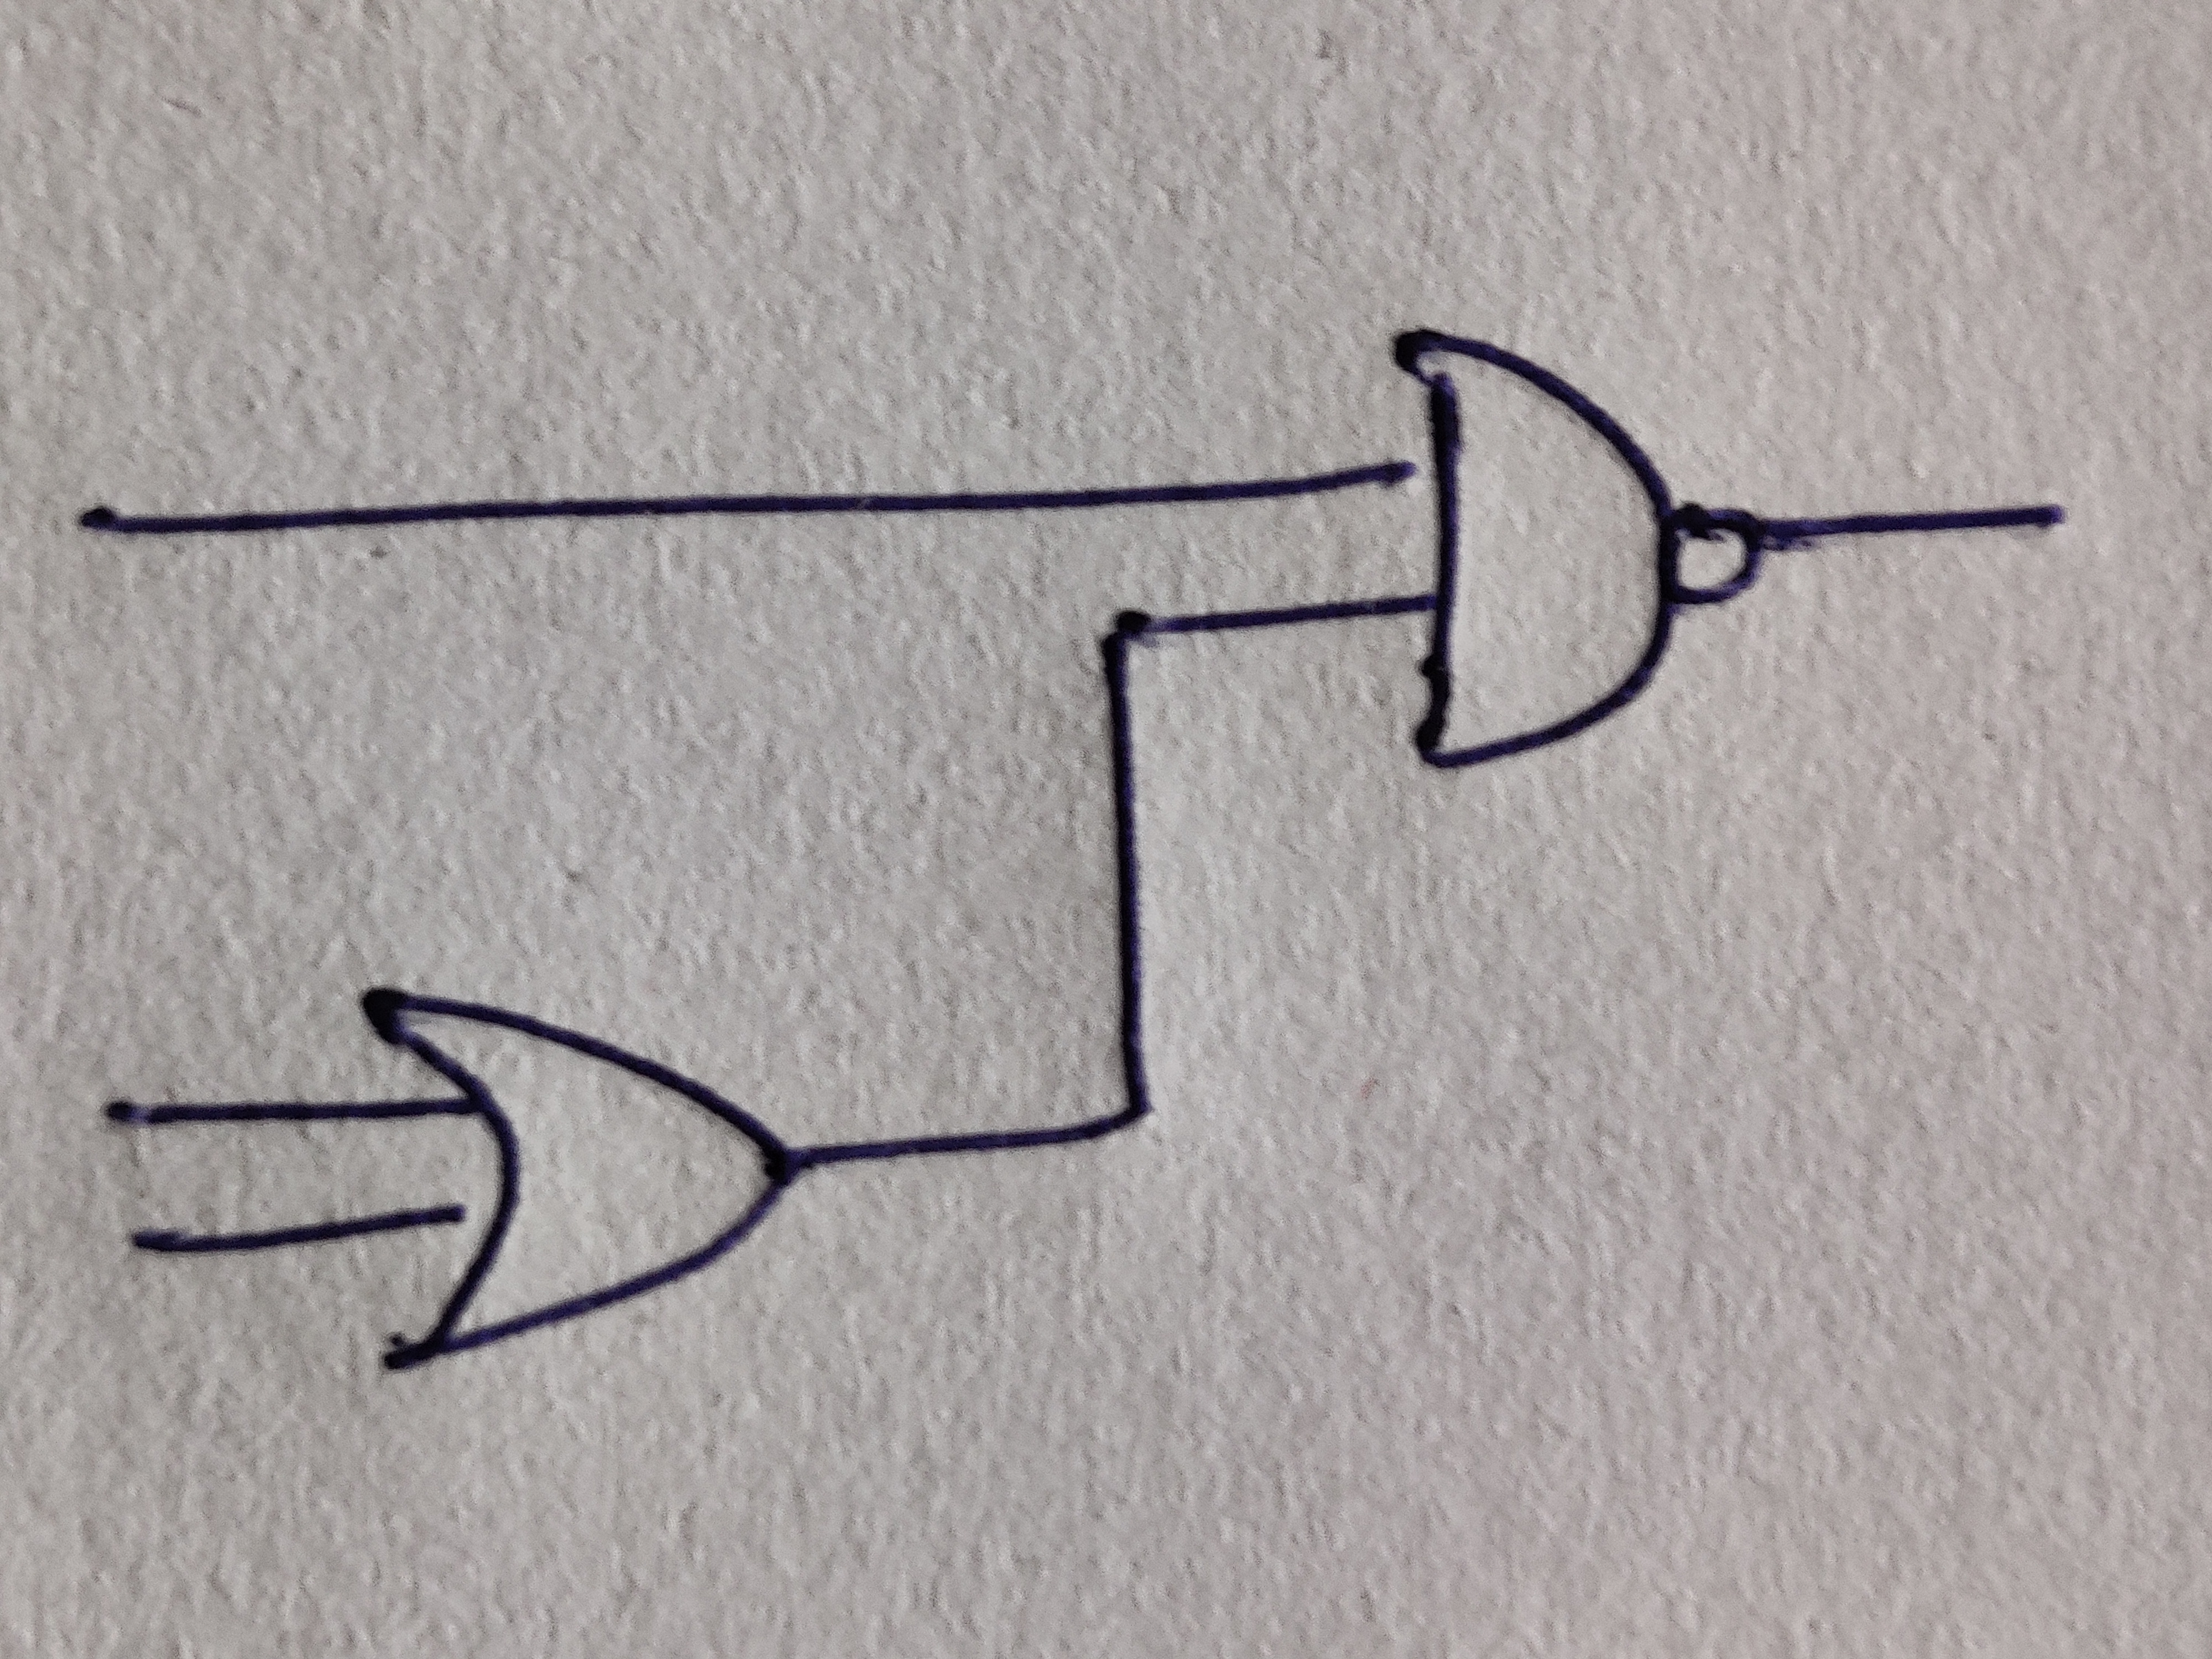and: (1395, 329, 1677, 770)
not: (1663, 507, 1761, 605)
or: (361, 986, 794, 1371)
